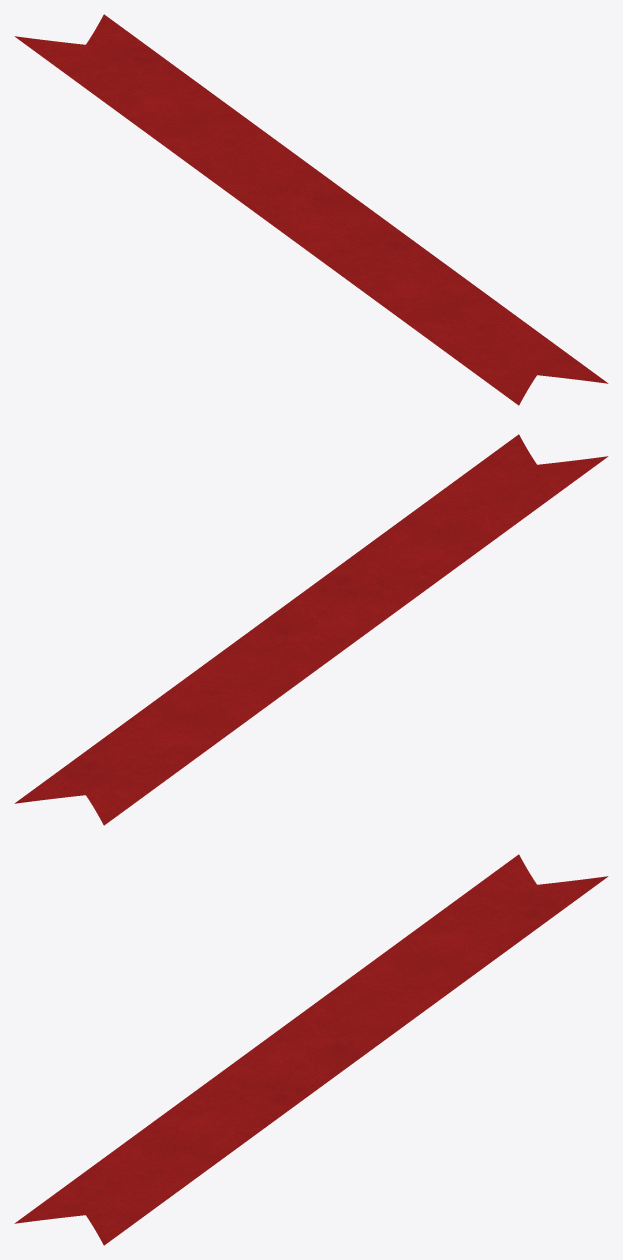
File: carpet.glb
3 views of the same model, one above another, from view 1: azimuth 30°, elevation 25°; view 2: azimuth 150°, elevation 25°; view 3: azimuth 330°, elevation 25° (orthographic).
Parts seen in each view (by area): view 1: pPlane1; view 2: pPlane1; view 3: pPlane1.
Part boxes in pixels (box(x1,y1,x2,y2)): pPlane1: box(14, 14, 608, 405); pPlane1: box(14, 434, 608, 825); pPlane1: box(14, 854, 608, 1245).
Size of the model in its own units: 2.86 by 0 by 27.84.
Materials: 1 (1 with a texture image).
